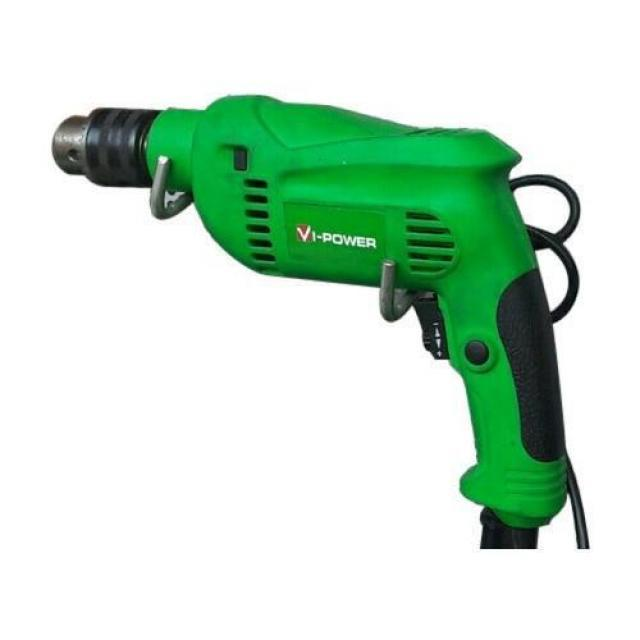drill: (49, 94, 568, 550)
